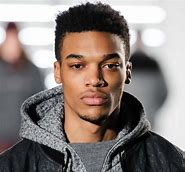person: (53, 3, 132, 124)
